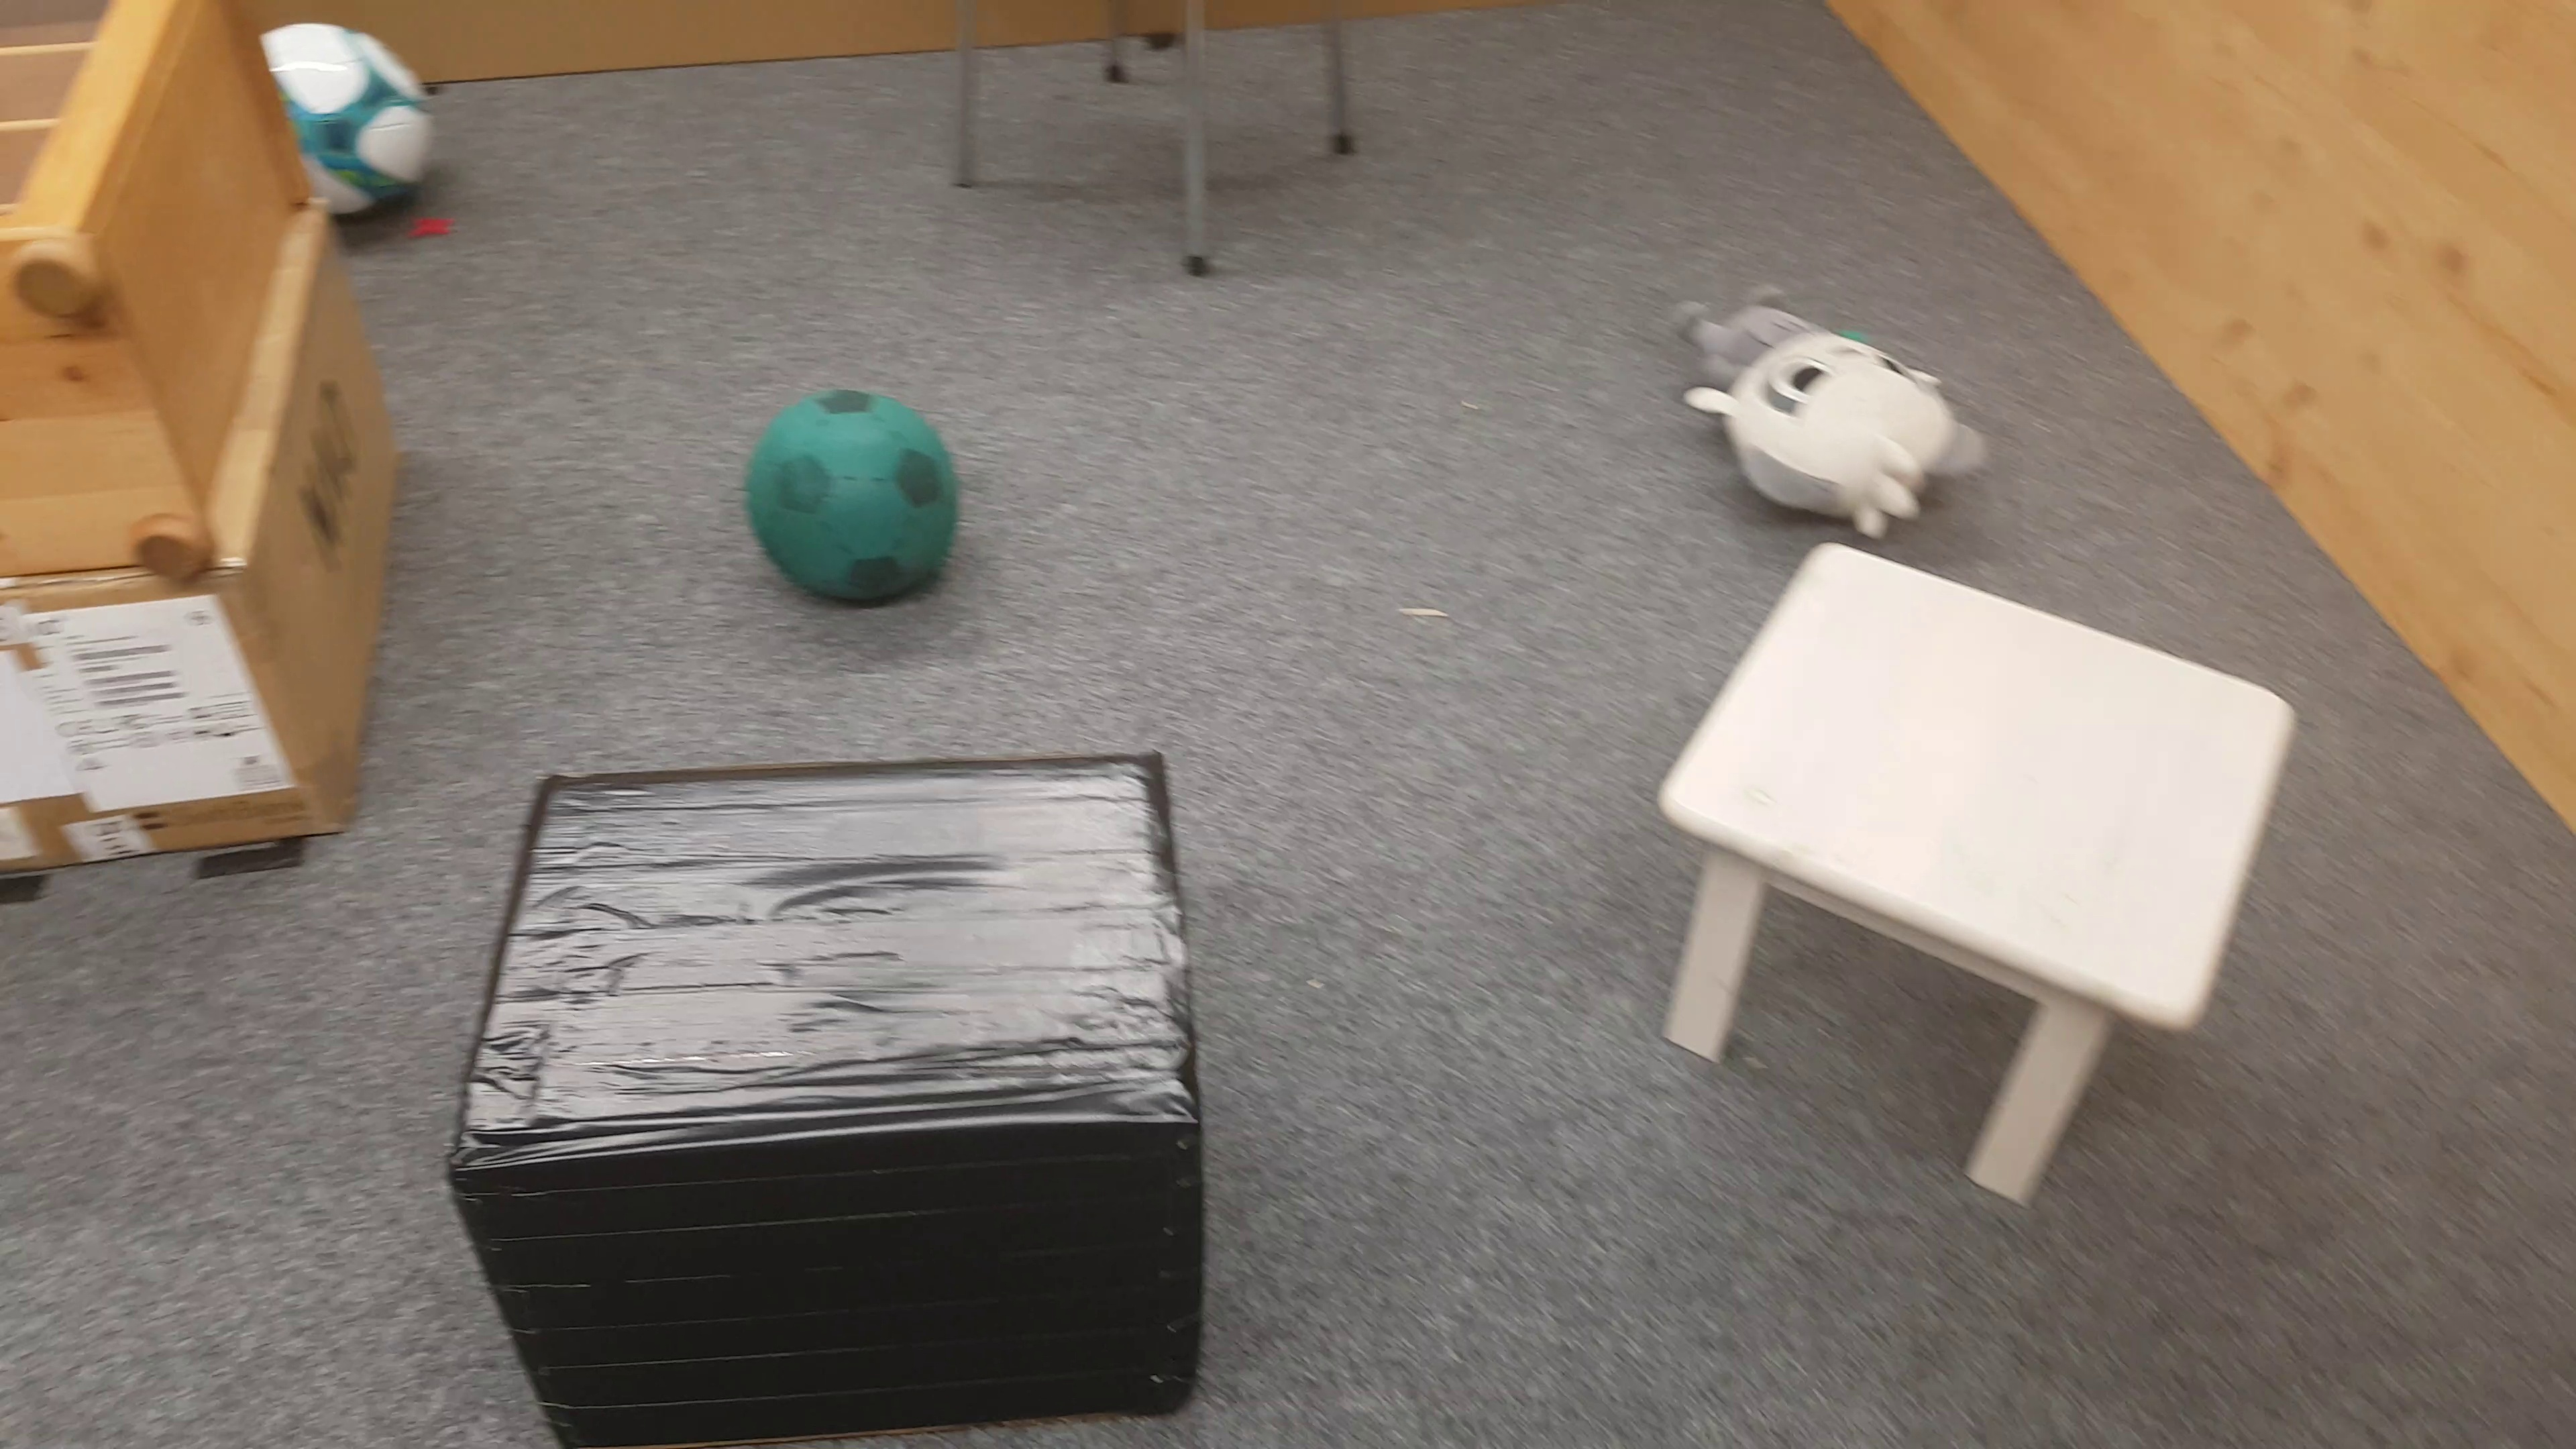grasp: (1670, 285, 1994, 545)
kick: (743, 393, 964, 605), (317, 30, 451, 209)
push: (455, 747, 1214, 1449)
